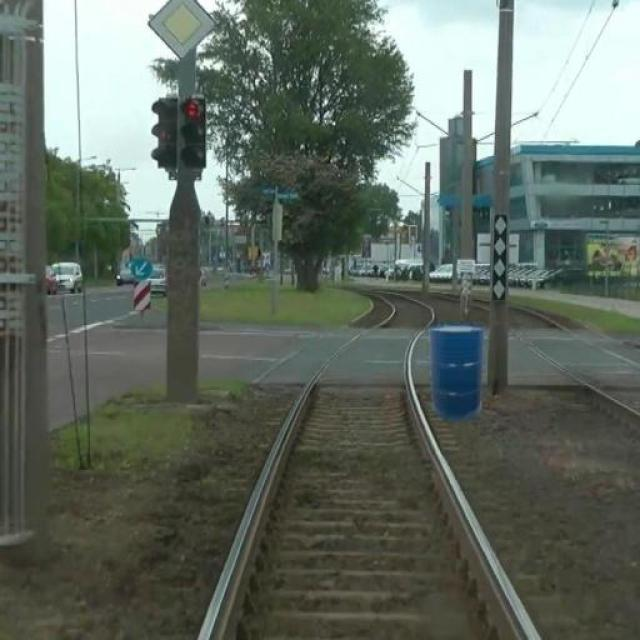Other_objects: (428, 314, 486, 428)
